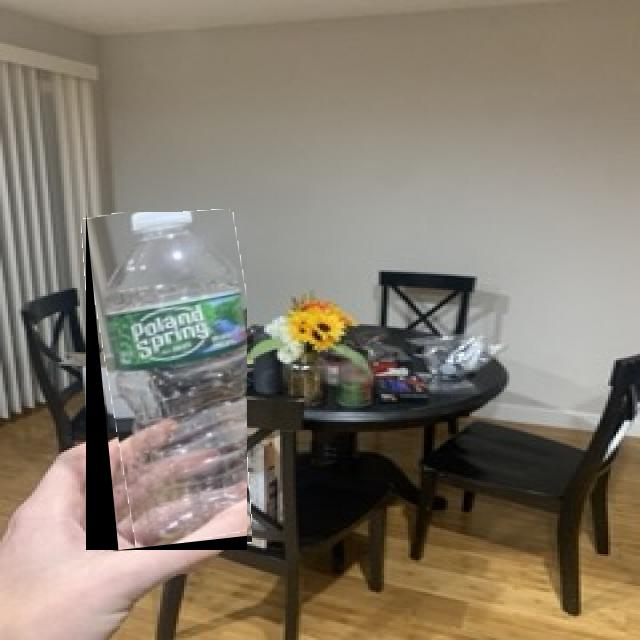water_bottle: (86, 212, 247, 550)
